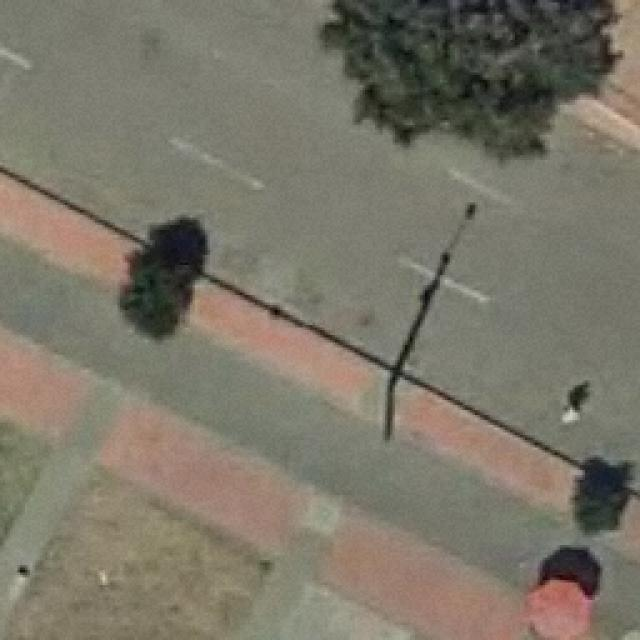vendedor_ambulante: (520, 574, 590, 640)
